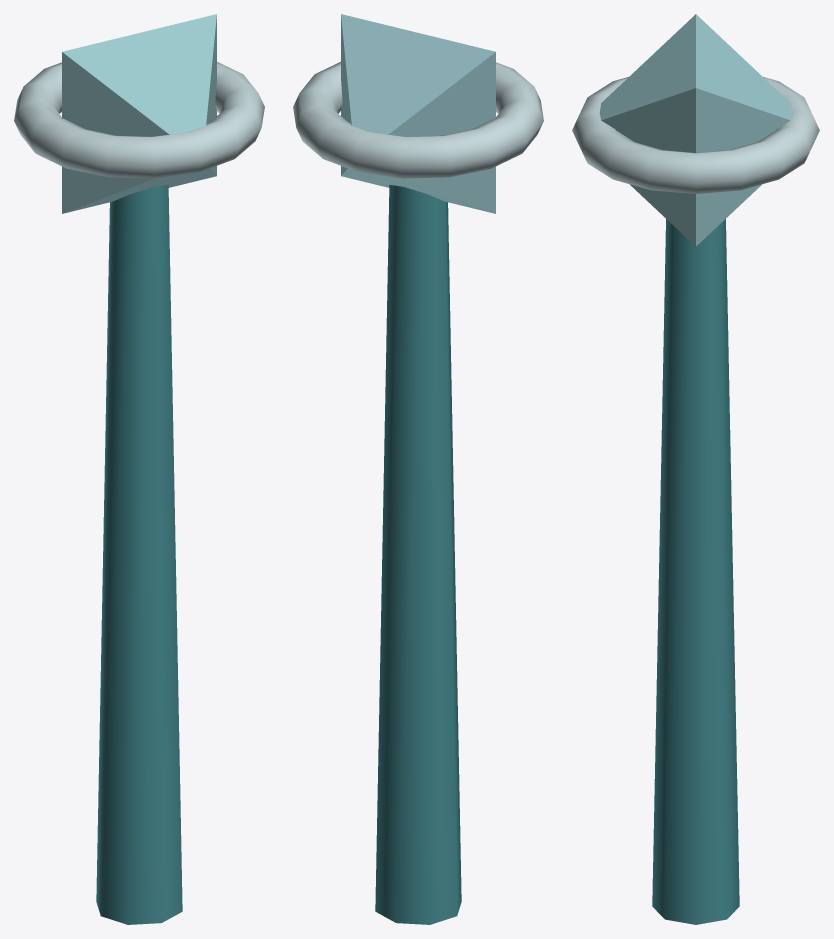
Rendered from snow_lantern.glb.
3 renders of one model, left to right at view 1: azimuth 30°, elevation 25°; view 2: azimuth 150°, elevation 25°; view 3: azimuth 270°, elevation 25°, orthographic. The views are drawn at different scales.
Parts seen in each view (by area): view 1: post, light, ring; view 2: post, light, ring; view 3: post, light, ring.
Boxes of the visible parts, left/top/right/bottom form: post: left=96, top=184, right=182, bottom=924; light: left=62, top=14, right=216, bottom=213; ring: left=14, top=62, right=264, bottom=178; post: left=375, top=184, right=461, bottom=924; light: left=341, top=14, right=495, bottom=213; ring: left=293, top=62, right=543, bottom=178; post: left=652, top=219, right=739, bottom=924; light: left=599, top=14, right=792, bottom=246; ring: left=572, top=77, right=819, bottom=193.
Size of what is drawn, in the model's own units: 0.68 by 2.59 by 0.68.
